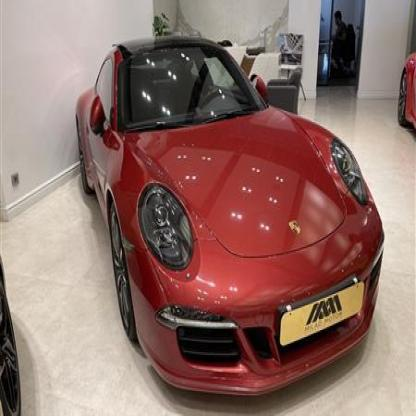Car: (73, 27, 386, 392)
